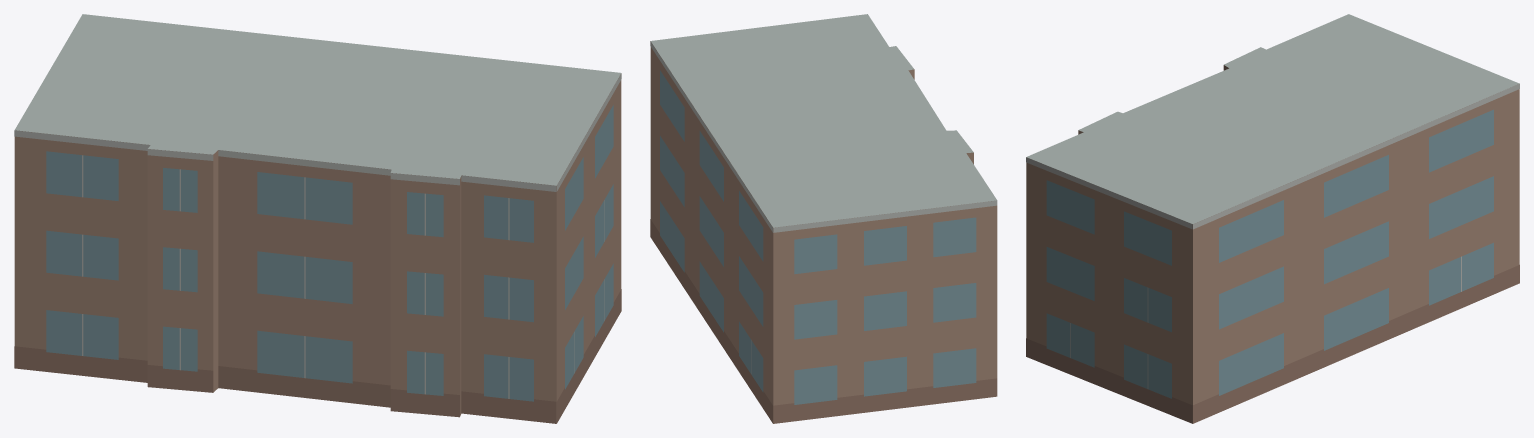
Rendered from survey-upis-32689391.glb.
3 renders of one model, left to right at view 1: azimuth 30°, elevation 25°; view 2: azimuth 150°, elevation 25°; view 3: azimuth 270°, elevation 25°, orthographic. The views are drawn at different scales.
Parts seen in each view (by area): view 1: survey-upis-32689391.tmp; view 2: survey-upis-32689391.tmp; view 3: survey-upis-32689391.tmp.
Part boxes in pixels (x1,y1,x2,y2): survey-upis-32689391.tmp: (14, 14, 621, 423); survey-upis-32689391.tmp: (650, 14, 997, 423); survey-upis-32689391.tmp: (1026, 14, 1519, 423).
Bounding box in the file's own units: 20.67 × 9.15 × 20.51.
